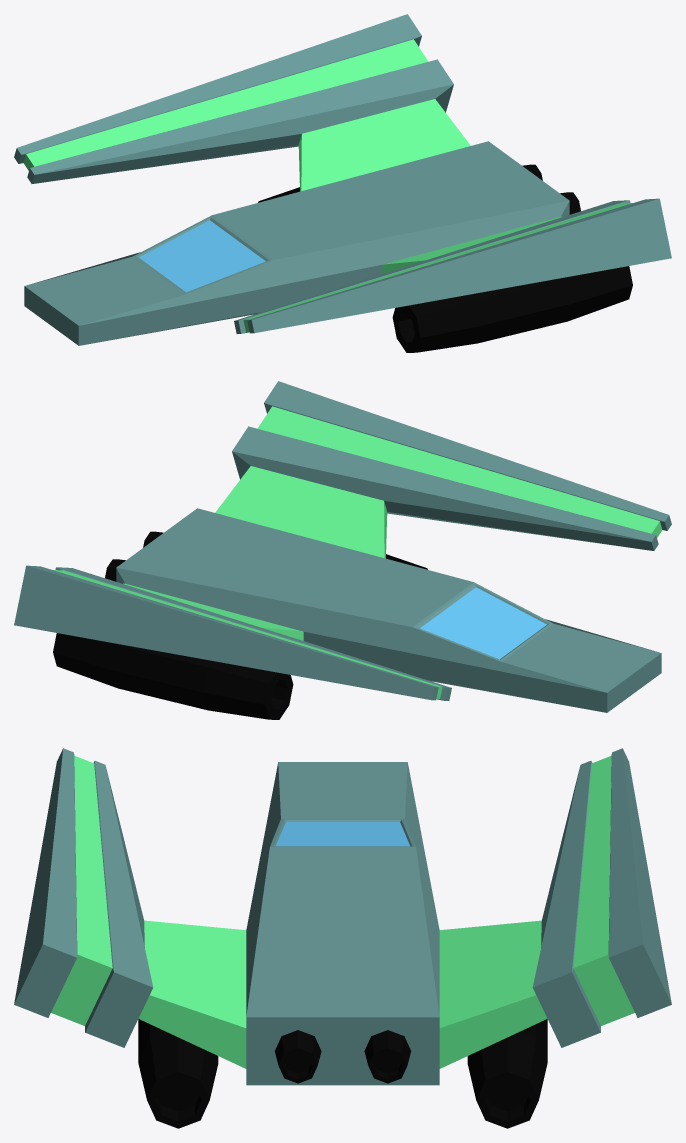
File: fighter2.fbx
The picture shows the model from 3 angles, top to bottom: view 1: azimuth 30°, elevation 25°; view 2: azimuth 150°, elevation 25°; view 3: azimuth 270°, elevation 25°; orthographic projection. The views are drawn at different scales.
Parts seen in each view (by area): view 1: Fighter2; view 2: Fighter2; view 3: Fighter2.
Boxes of the visible parts, x1,y1,x2,y2 form: Fighter2: (14,14,671,352); Fighter2: (14,381,671,719); Fighter2: (14,748,671,1128).
Size of the model in its own units: 552 by 161 by 526.
